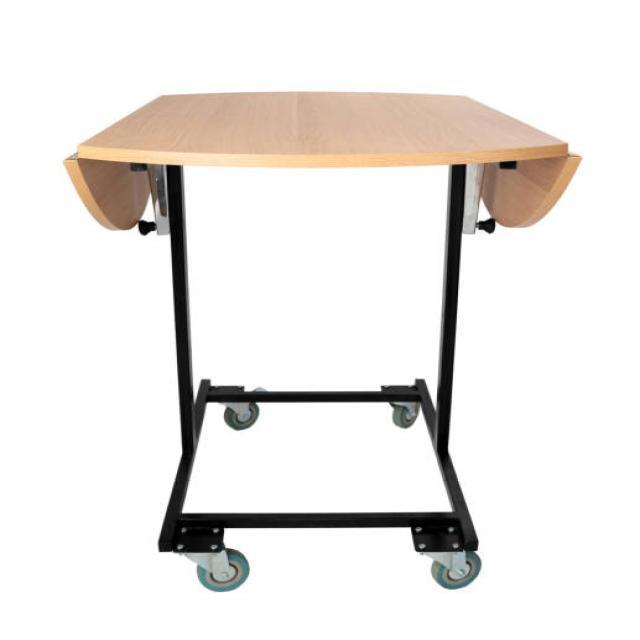table: (63, 90, 582, 591)
